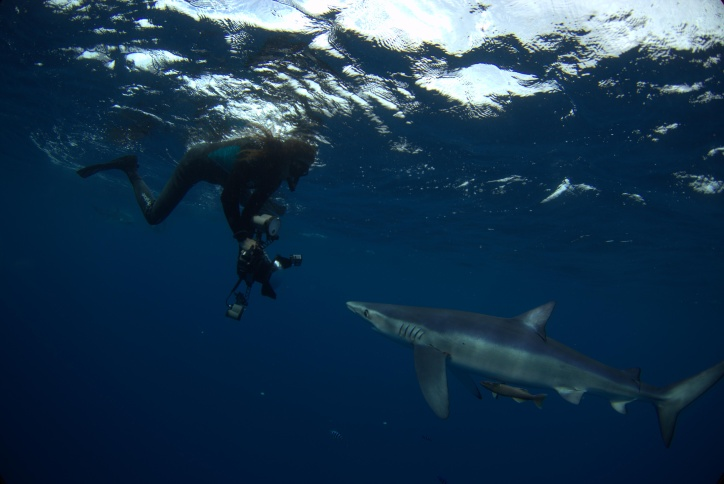Azul: (336, 271, 722, 470)
